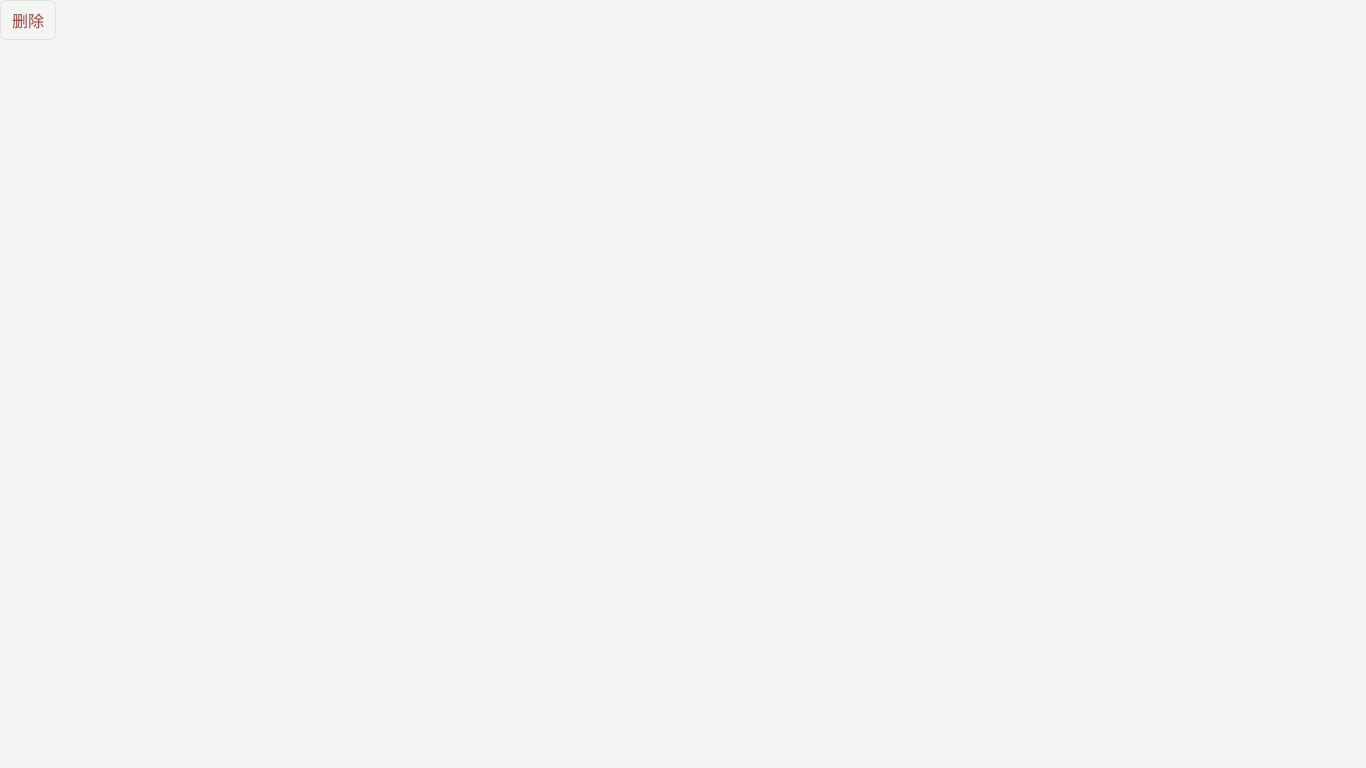
Test: permanent novel deletion › ignores a cancelled preview even after a new preview reaches confirmation
Later steps or results of the test are not shown.
Click the button with aria-label "永久删除小说 测试小说".
click(28, 20)  # box x1=0 y1=0 x2=56 y2=40
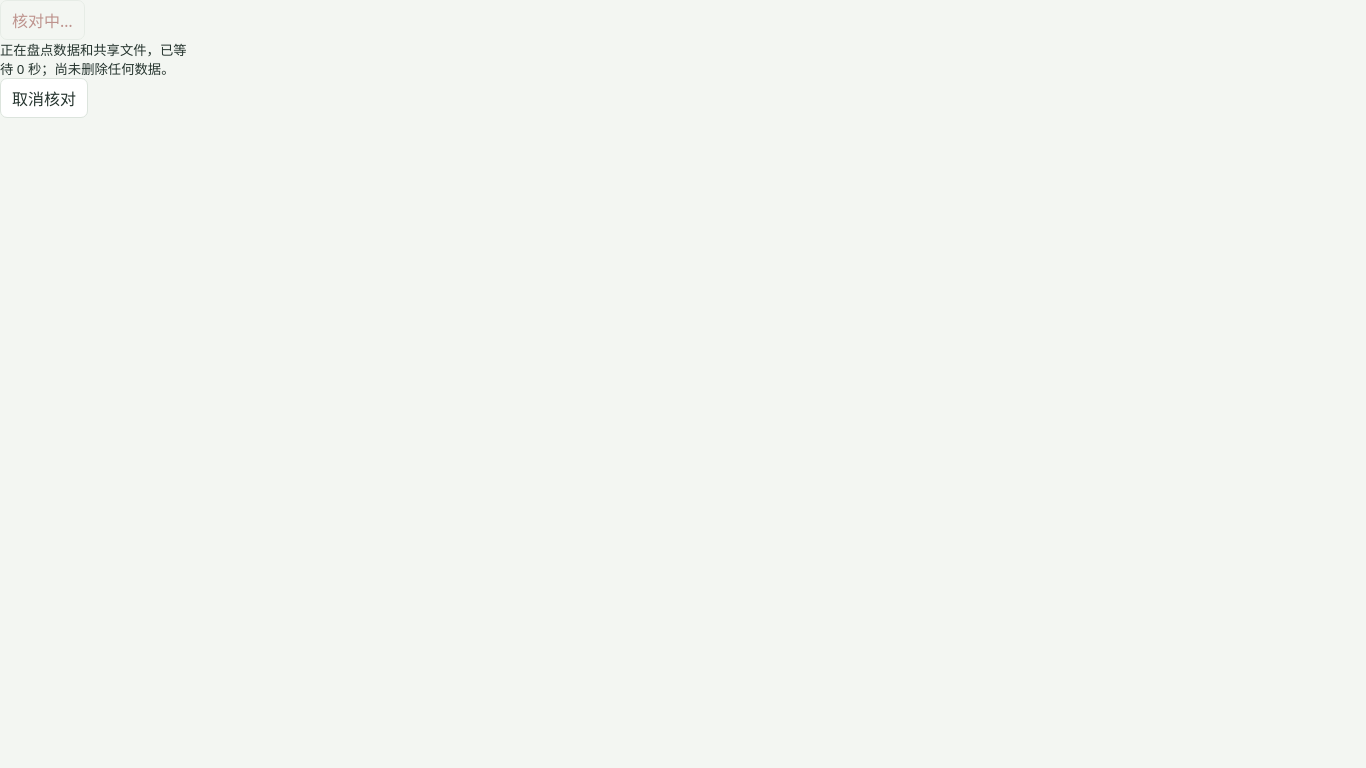
Click the button "取消核对".
click(44, 98)  # box x1=0 y1=78 x2=88 y2=118
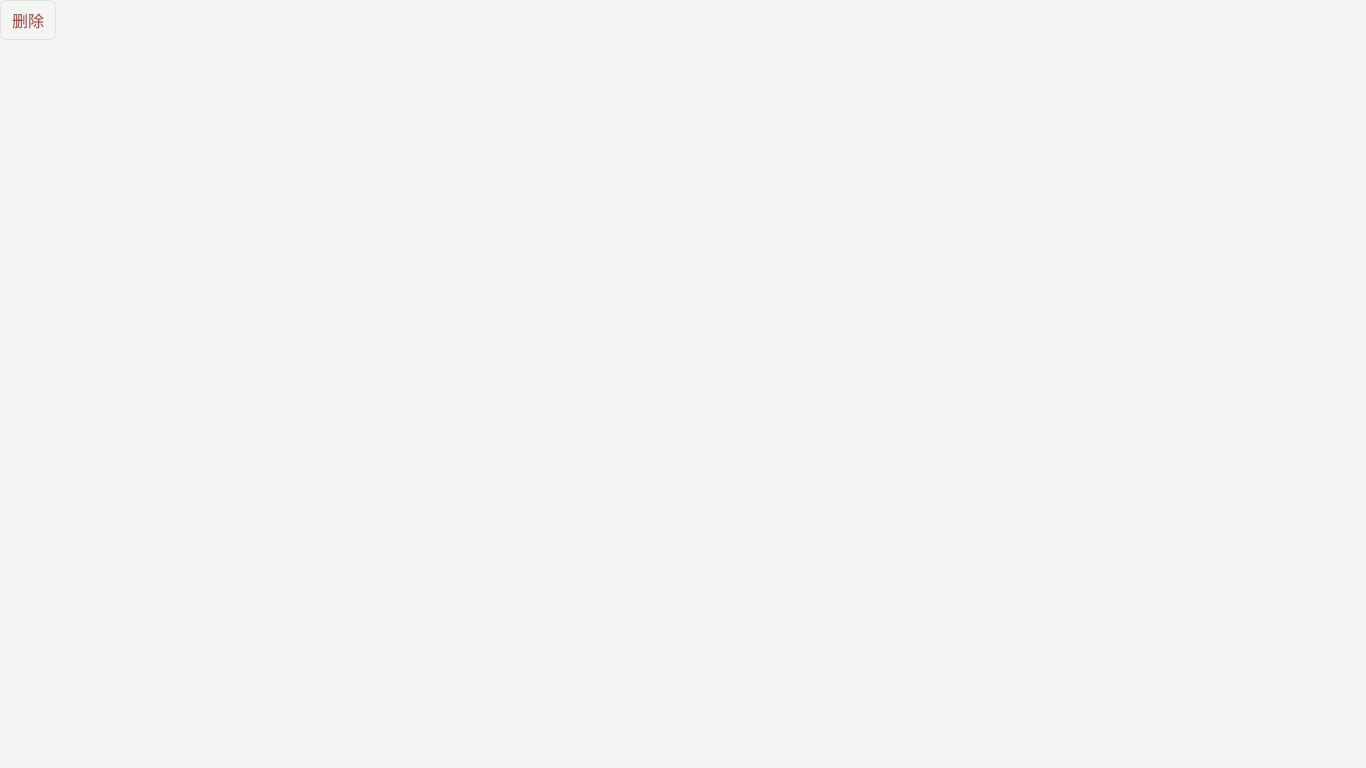
Click the button with aria-label "永久删除小说 测试小说".
click(28, 20)  # box x1=0 y1=0 x2=56 y2=40
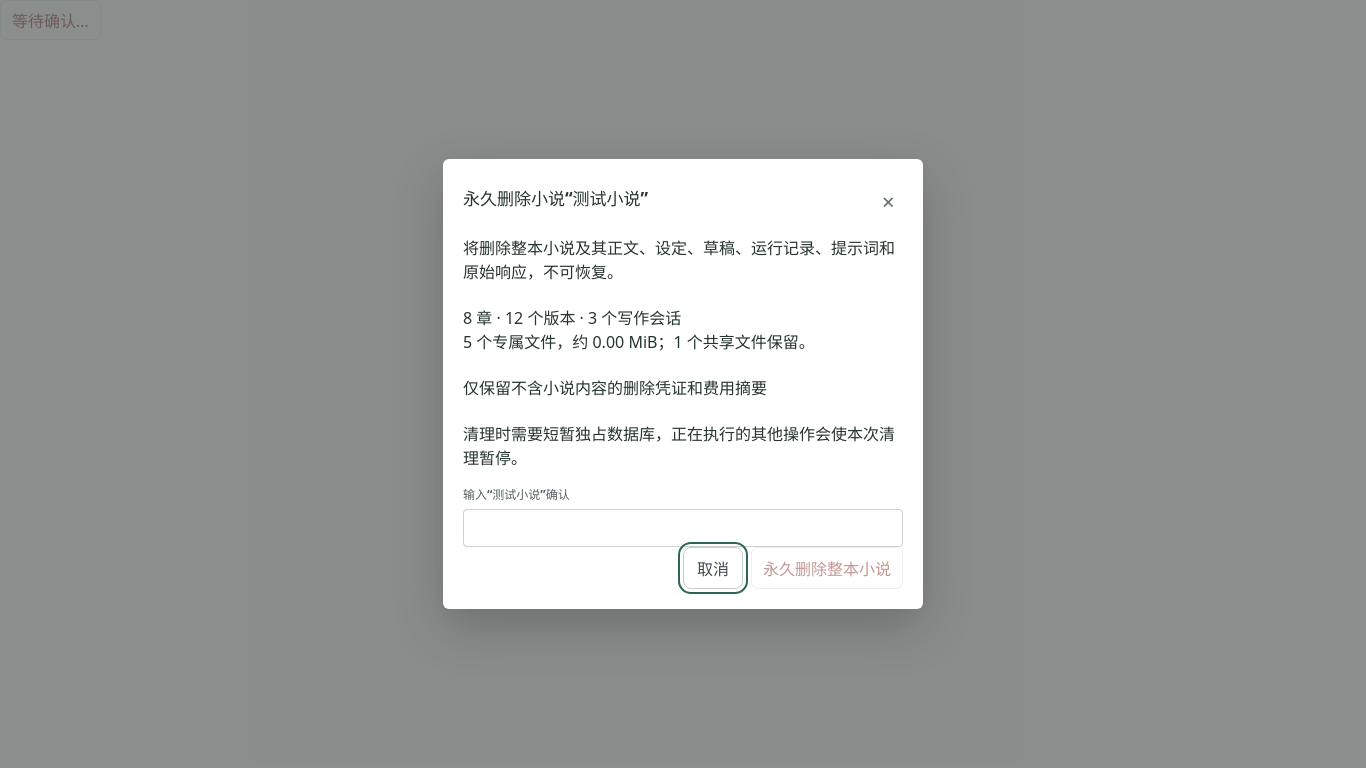
Expected: the message "正在盘点数据和共享文件，已等待 0 秒；尚未删除任何数据。" is not shown
Expected: the dialog is shown, x1=443 y1=159 x2=923 y2=609
Expected: the button with aria-label "永久删除小说 测试小说" shows "等待确认", x1=0 y1=0 x2=101 y2=40
